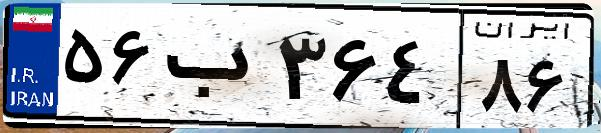3: (270, 28, 330, 110)
4: (385, 28, 445, 110)
5: (57, 26, 110, 100)
6: (330, 28, 385, 110), (525, 38, 570, 115), (110, 28, 158, 98)
8: (475, 38, 525, 113)
ب: (158, 20, 270, 120)
